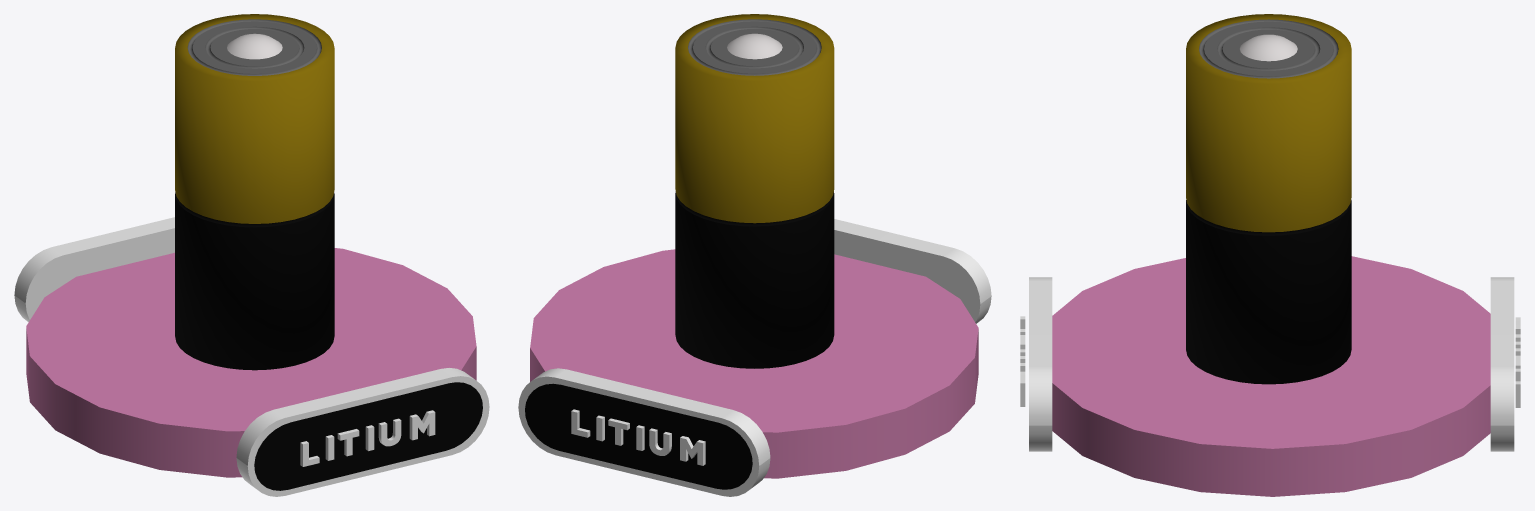
Rendered from battery_objectgeo.fbx.
3 views of the same model, side by side, from view 1: azimuth 30°, elevation 25°; view 2: azimuth 150°, elevation 25°; view 3: azimuth 270°, elevation 25° (orthographic). The views are drawn at different scales.
Parts seen in each view (by area): view 1: BATTERY, bananabase_geo1, plaquecolor_geo2, plaquecolor_geo3, litiumText_geo; view 2: BATTERY, bananabase_geo1, plaquecolor_geo3, plaquecolor_geo2, litiumText_geo1; view 3: bananabase_geo1, BATTERY, plaquecolor_geo3, plaquecolor_geo2, litiumText_geo1, litiumText_geo.
Part boxes in pixels (box(x1,y1,x2,y2)): BATTERY: box(175, 14, 334, 370); bananabase_geo1: box(26, 248, 476, 477); plaquecolor_geo2: box(236, 368, 489, 496); plaquecolor_geo3: box(14, 217, 174, 321); litiumText_geo: box(300, 410, 435, 466); BATTERY: box(675, 14, 834, 368); bananabase_geo1: box(530, 249, 978, 478); plaquecolor_geo3: box(518, 368, 770, 496); plaquecolor_geo2: box(834, 219, 991, 323); litiumText_geo1: box(571, 409, 705, 465); bananabase_geo1: box(1052, 256, 1490, 496); BATTERY: box(1186, 14, 1351, 384); plaquecolor_geo3: box(1490, 277, 1514, 451); plaquecolor_geo2: box(1029, 277, 1052, 451); litiumText_geo1: box(1515, 317, 1520, 407); litiumText_geo: box(1020, 316, 1025, 406).
Bounding box in the file's own units: 18.1 × 15.59 × 19.25.
